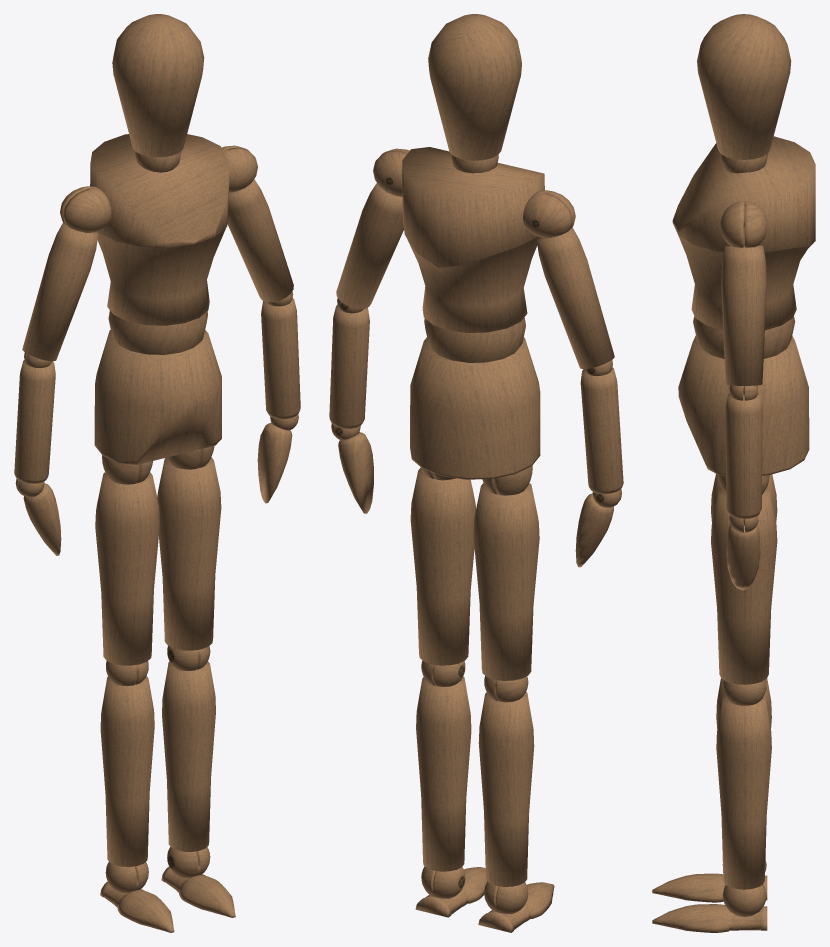
The model's file is manequin1.fbx.
3 views of the same model, side by side, from view 1: azimuth 30°, elevation 25°; view 2: azimuth 150°, elevation 25°; view 3: azimuth 270°, elevation 25° (orthographic). The views are drawn at different scales.
Parts seen in each view (by area): view 1: Man-Waist-Low.003; view 2: Man-Waist-Low.003; view 3: Man-Waist-Low.003.
Boxes of the visible parts, x1,y1,x2,y2 form: Man-Waist-Low.003: (14, 14, 300, 932); Man-Waist-Low.003: (329, 14, 623, 932); Man-Waist-Low.003: (652, 14, 815, 932).
Size of the model in its own units: 905 by 2676 by 444.
Materials: 1 (1 with a texture image).
